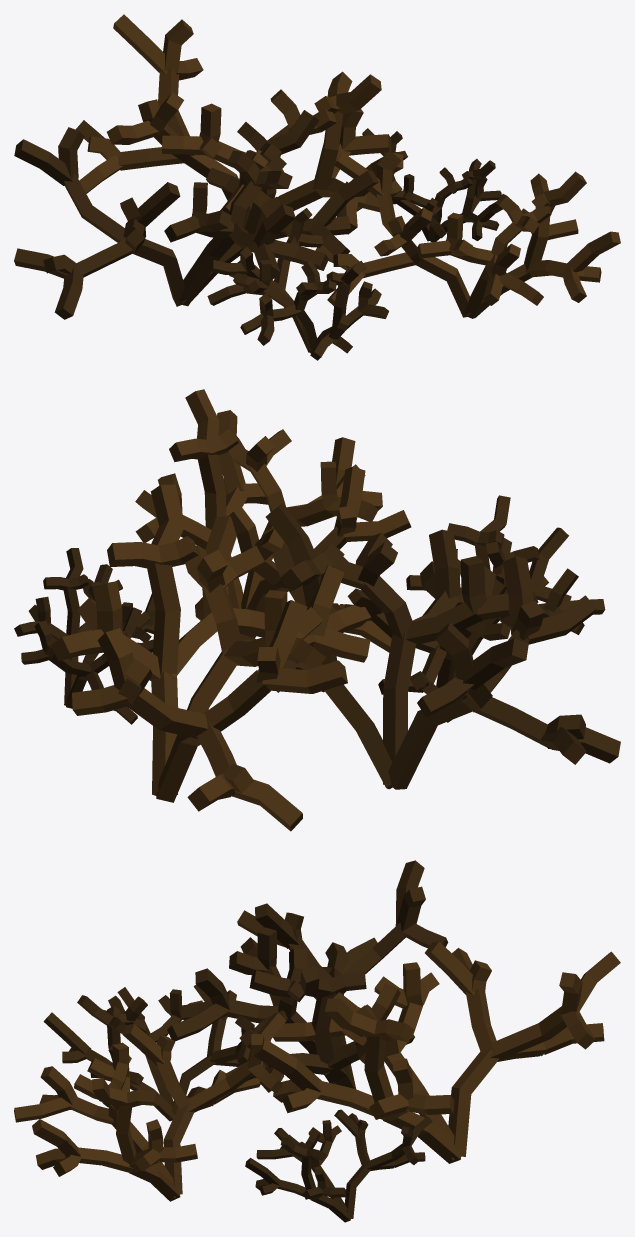
The model's file is SM__Temperate__Forest__Shrub__Dead__1.fbx.
3 views of the same model, one above another, from view 1: azimuth 30°, elevation 25°; view 2: azimuth 150°, elevation 25°; view 3: azimuth 270°, elevation 25° (orthographic). The views are drawn at different scales.
Visible parts, largest first — view 1: normal22; view 2: normal22; view 3: normal22.
Boxes of the visible parts, x1=… form: normal22: x1=14, y1=14, x2=620, y2=360; normal22: x1=14, y1=389, x2=620, y2=831; normal22: x1=14, y1=860, x2=620, y2=1222.
Bounding box in the file's own units: 2.4 × 0.9484 × 2.69.
